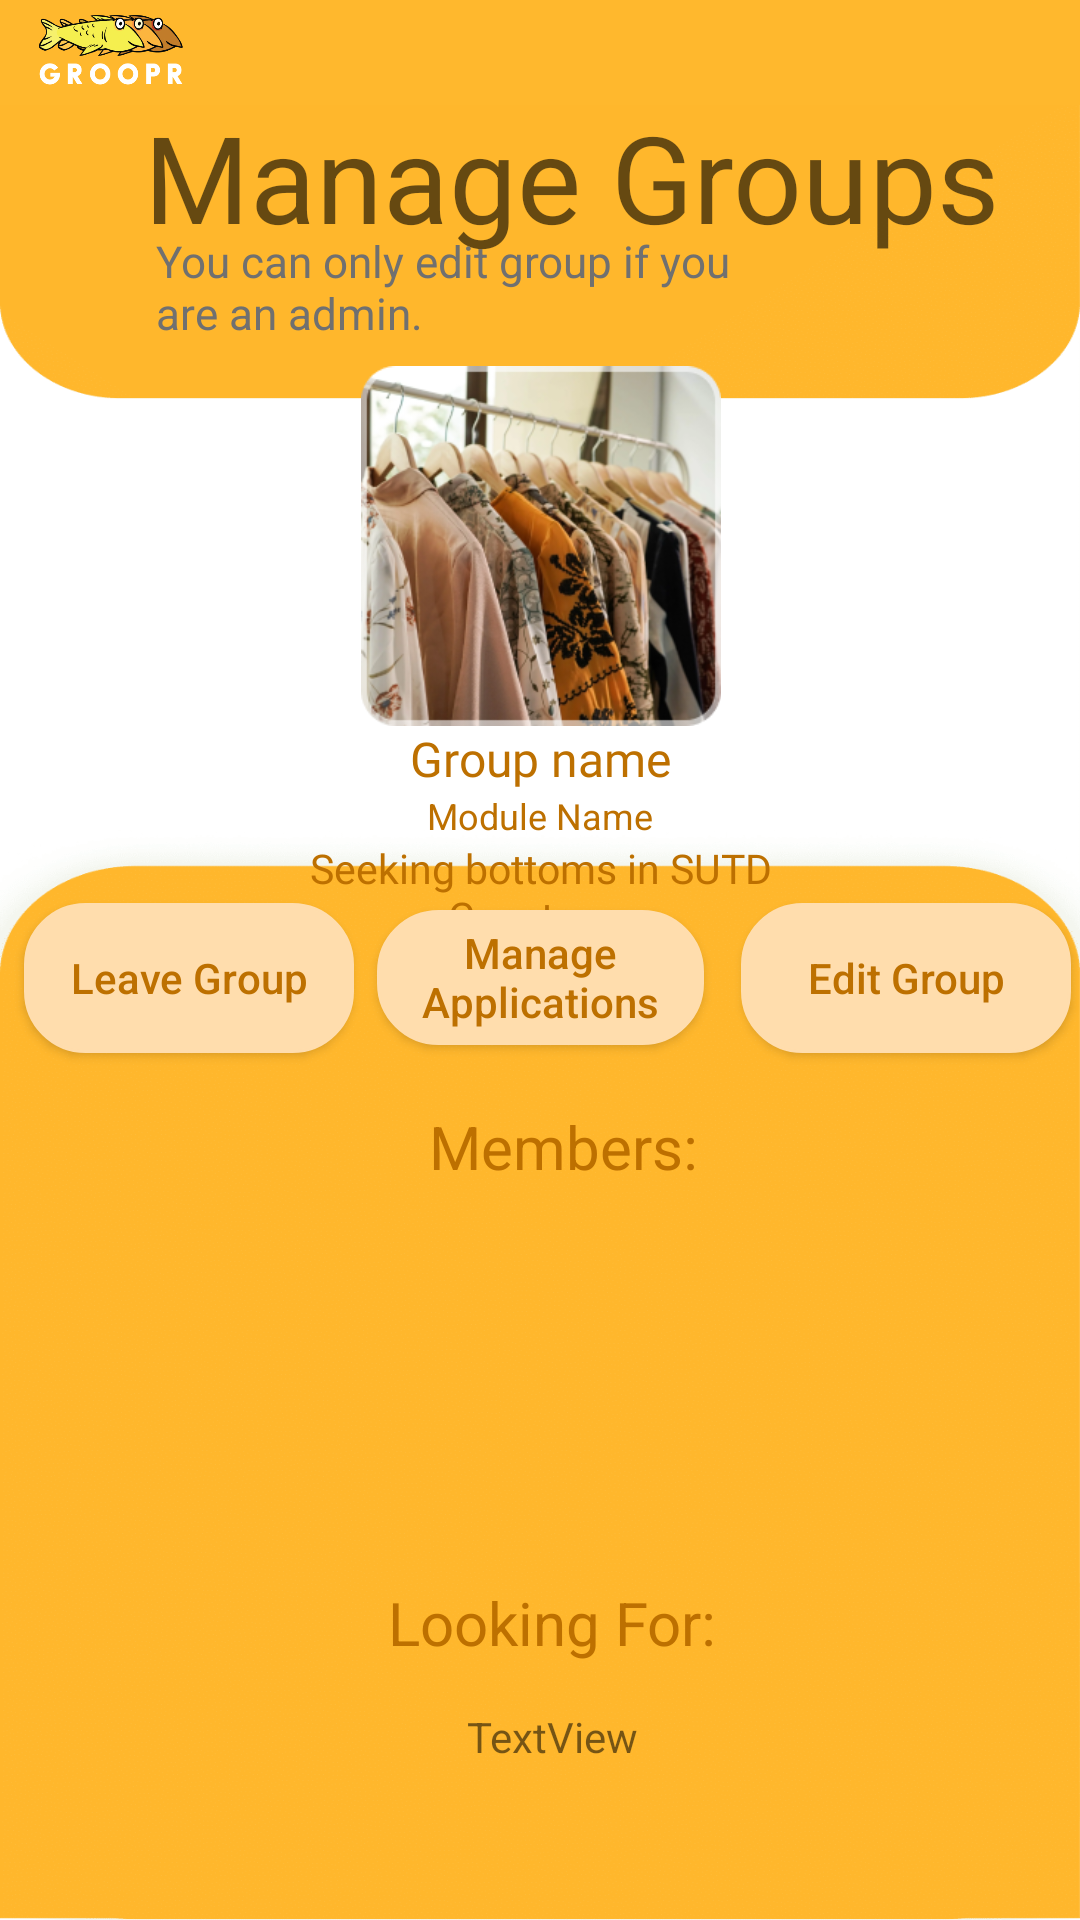

Screen size 1080 x 1920. Icon name, then its center in pixels as [x,y]:
clothes: [541,546]
